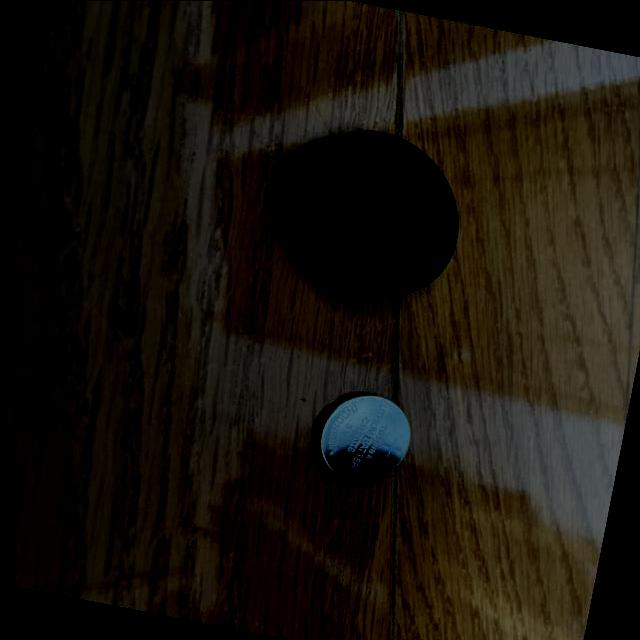COIN: (310, 384, 418, 490)
